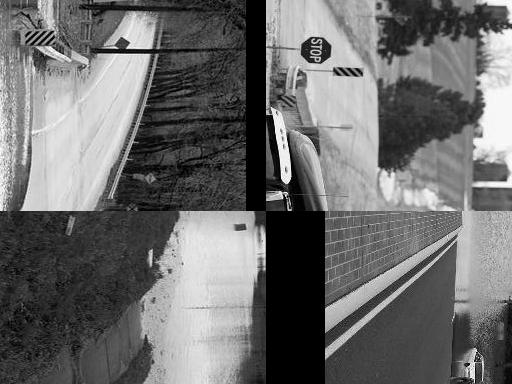road_waterlogging: (187, 211, 262, 384), (458, 211, 512, 384), (139, 300, 181, 384)
